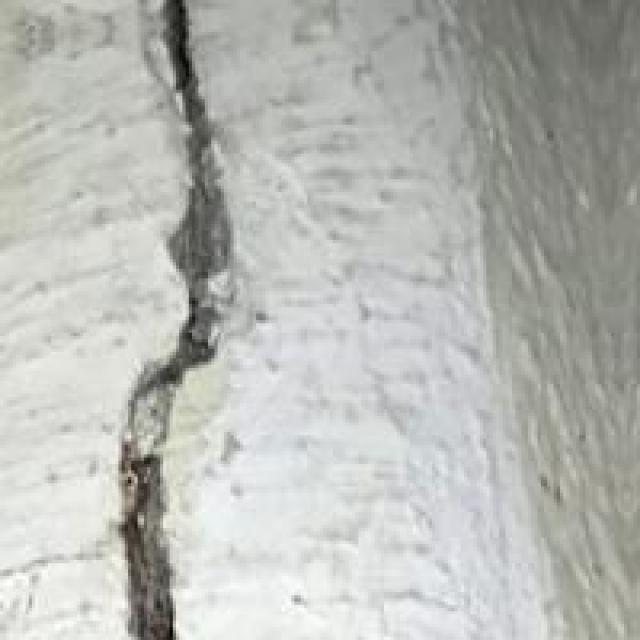crack: (80, 3, 243, 637)
